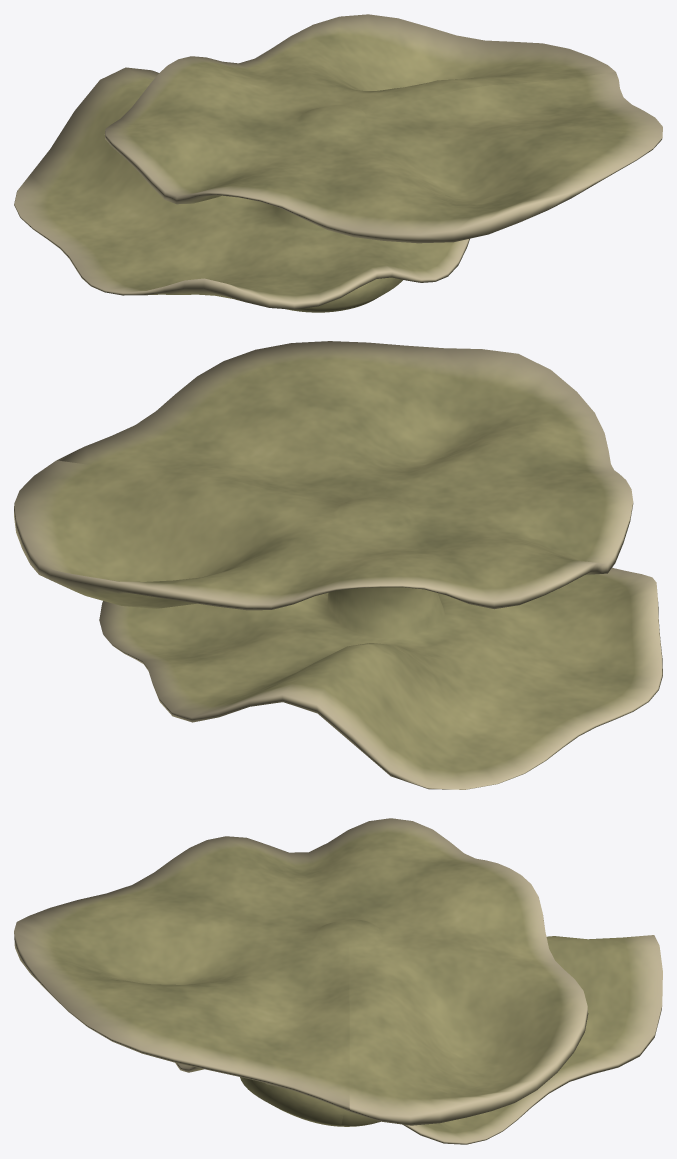
Rendered from plate_v6_cup_lod1.glb.
The picture shows the model from 3 angles, top to bottom: view 1: azimuth 30°, elevation 25°; view 2: azimuth 150°, elevation 25°; view 3: azimuth 270°, elevation 25°; orthographic projection. The views are drawn at different scales.
Visible parts, largest first — view 1: plate_v6_folds_cup_LOD1; view 2: plate_v6_folds_cup_LOD1; view 3: plate_v6_folds_cup_LOD1.
Part boxes in pixels (<box>): plate_v6_folds_cup_LOD1: <box>14,14,662,312</box>; plate_v6_folds_cup_LOD1: <box>14,341,662,789</box>; plate_v6_folds_cup_LOD1: <box>14,818,662,1144</box>.
Bounding box in the file's own units: 1.14 × 0.35 × 1.13.
1 material, 1 textured.
